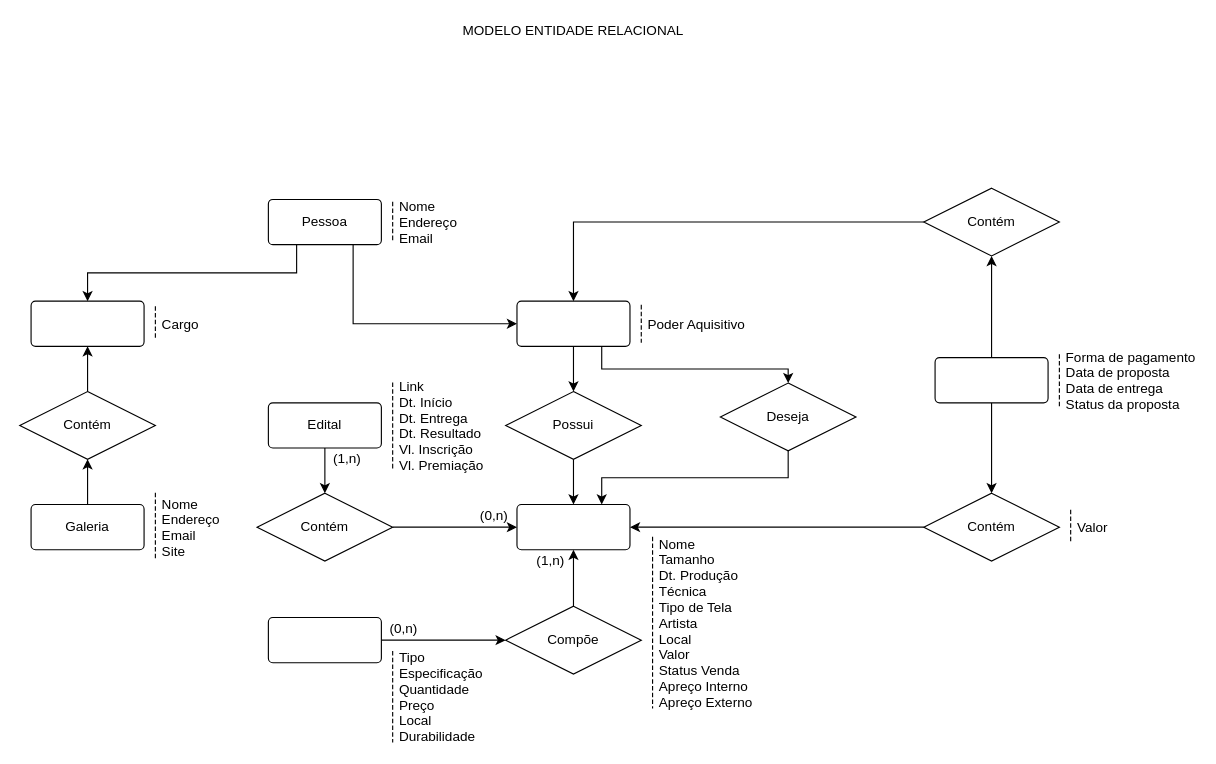
Some shapes in this 1216 by 764 pixel diagram are drawn without their labels. The shapes that lost their labels are listed below. From the top down, each one's centre as x and y in pixels, then its label:
the point at 87,323: Contato
the point at 573,323: Cliente
the point at 991,380: Proposta de Venda
the point at 573,526: Obra
the point at 324,639: Material
